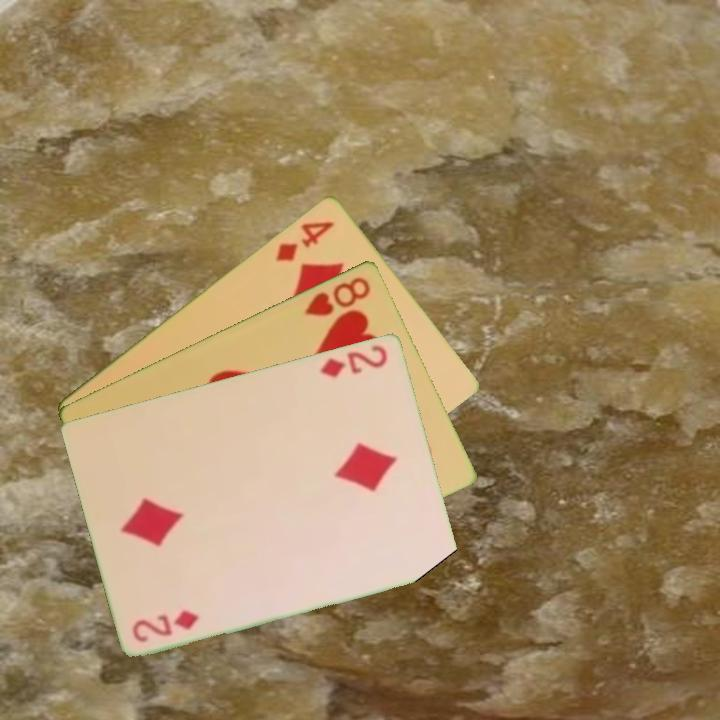2d: (316, 341, 391, 380), (128, 606, 203, 645)
4d: (272, 216, 337, 264)
8h: (301, 272, 374, 319)
